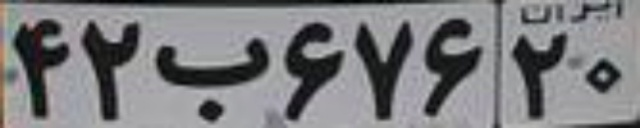0: (581, 56, 627, 94)
2: (82, 19, 141, 122), (510, 30, 576, 119)
4: (15, 17, 69, 119)
6: (281, 20, 343, 120), (423, 17, 482, 117)
7: (352, 18, 413, 120)
be: (155, 36, 271, 122)
